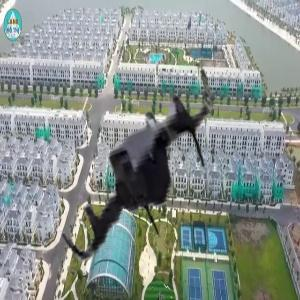drone: (39, 68, 251, 280)
